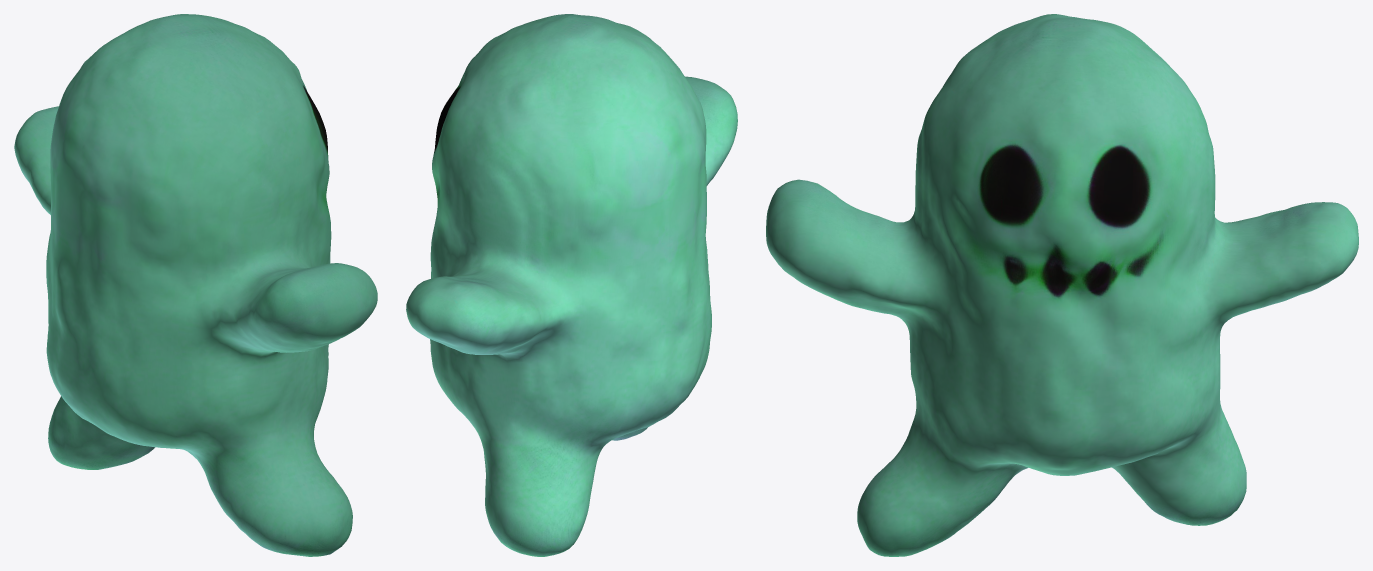
Rendered from ghost_green.glb.
3 views of the same model, side by side, from view 1: azimuth 30°, elevation 25°; view 2: azimuth 150°, elevation 25°; view 3: azimuth 270°, elevation 25° (orthographic). The views are drawn at different scales.
Parts seen in each view (by area): view 1: Mesh1; view 2: Mesh1; view 3: Mesh1.
Part boxes in pixels (<box>): Mesh1: <box>14,14,377,556</box>; Mesh1: <box>406,14,737,556</box>; Mesh1: <box>766,14,1358,556</box>.
Bounding box in the file's own units: 0.6119 × 1.13 × 1.2.
Materials: 1 (1 with a texture image).
